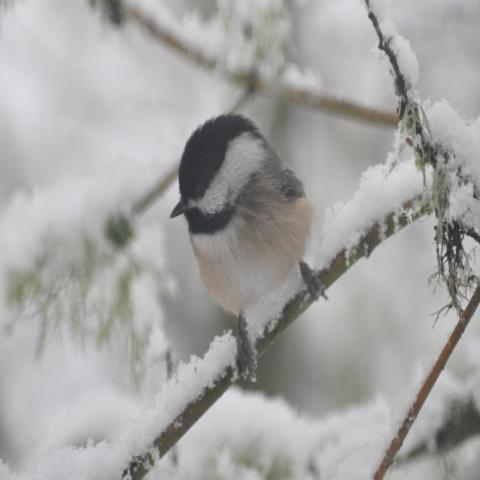bird: (167, 109, 328, 381)
